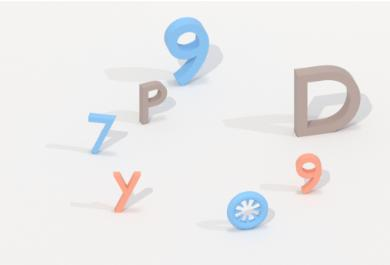0-TronLo: (222, 186, 275, 236)
7: (83, 109, 119, 159)
9: (159, 12, 213, 88), (291, 149, 327, 197)
D: (289, 57, 364, 141)
P: (134, 77, 170, 126)
y: (108, 165, 144, 218)
